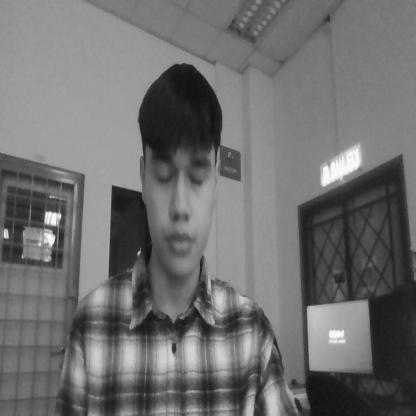Closed-Eyes: (150, 148, 212, 198)
